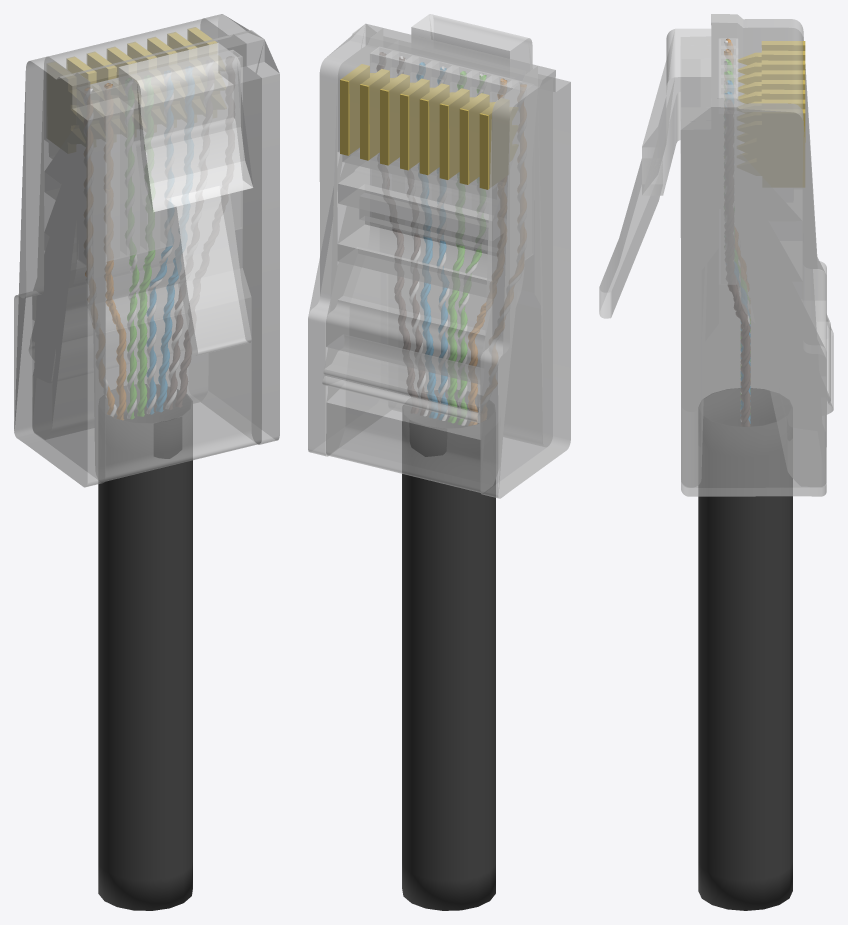
File: CableWithRj45.fbx
3 views of the same model, side by side, from view 1: azimuth 30°, elevation 25°; view 2: azimuth 150°, elevation 25°; view 3: azimuth 270°, elevation 25° (orthographic).
Parts seen in each view (by area): view 1: body.001, Circle.027, click.001, knifes.001, Circle.034, Circle.031, Circle.032, Circle.033, Circle.030, Circle.029; view 2: body.001, Circle.027, knifes.001, click.001, Circle.029, Circle.026, Circle.031, Circle.032, Circle.030, Circle.033; view 3: body.001, Circle.027, click.001, knifes.001, Circle.026.
Boxes of the visible parts, x1=… form: body.001: x1=14, y1=14, x2=279, y2=487; Circle.027: x1=98, y1=384, x2=192, y2=910; click.001: x1=118, y1=42, x2=253, y2=355; knifes.001: x1=48, y1=27, x2=217, y2=146; Circle.034: x1=104, y1=83, x2=125, y2=419; Circle.031: x1=147, y1=245, x2=172, y2=414; Circle.032: x1=137, y1=250, x2=154, y2=416; Circle.033: x1=127, y1=254, x2=139, y2=418; Circle.030: x1=156, y1=263, x2=177, y2=411; Circle.029: x1=166, y1=287, x2=182, y2=409; body.001: x1=308, y1=23, x2=570, y2=498; Circle.027: x1=402, y1=390, x2=495, y2=910; knifes.001: x1=340, y1=64, x2=517, y2=189; click.001: x1=411, y1=14, x2=532, y2=77; Circle.029: x1=397, y1=57, x2=427, y2=415; Circle.026: x1=376, y1=53, x2=417, y2=413; Circle.031: x1=437, y1=68, x2=447, y2=419; Circle.032: x1=447, y1=73, x2=466, y2=421; Circle.030: x1=416, y1=64, x2=437, y2=417; Circle.033: x1=458, y1=75, x2=486, y2=424; body.001: x1=680, y1=14, x2=833, y2=496; Circle.027: x1=698, y1=388, x2=792, y2=910; click.001: x1=599, y1=28, x2=711, y2=318; knifes.001: x1=738, y1=41, x2=805, y2=187; Circle.026: x1=731, y1=284, x2=750, y2=426.
Bounding box in the file's own units: 0.0444 × 0.187 × 0.0472.
